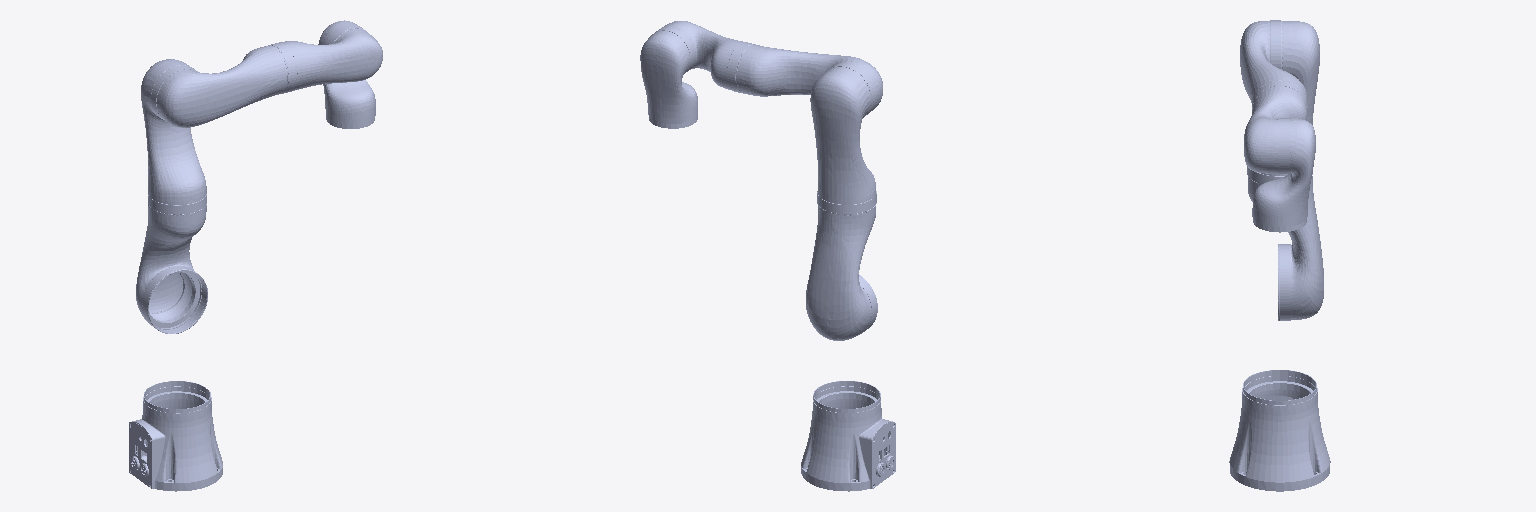
URDF robot description (tl_tcb610):
<?xml version="1.0" encoding="utf-8"?>
<!-- This URDF was automatically created by SolidWorks to URDF Exporter! Originally created by Stephen Brawner (brawner@gmail.com) 
     Commit Version: 1.6.0-4-g7f85cfe  Build Version: 1.6.7995.38578
     For more information, please see http://wiki.ros.org/sw_urdf_exporter -->
<robot
  name="tl_tcb610">
  <link
    name="link0">
    <inertial>
      <origin
        xyz="-0.0020391678669849 0.000208461233542918 0.0437970464318419"
        rpy="0 0 0" />
      <mass
        value="0.230943297728628" />
      <inertia
        ixx="0.000578857931988568"
        ixy="2.4964429515846E-06"
        ixz="-3.62761994221812E-06"
        iyy="0.000597326060992728"
        iyz="8.87603974516217E-07"
        izz="0.000630268815467388" />
    </inertial>
    <visual>
      <origin
        xyz="0 0 0"
        rpy="0 0 0" />
      <geometry>
        <mesh
          filename="package://tl_description/meshes/tl_tcb610/link0.STL" />
      </geometry>
      <material
        name="">
        <color
          rgba="0.792156862745098 0.819607843137255 0.933333333333333 1" />
      </material>
    </visual>
    <collision>
      <origin
        xyz="0 0 0"
        rpy="0 0 0" />
      <geometry>
        <mesh
          filename="package://tl_description/meshes/tl_tcb610/link0.STL" />
      </geometry>
    </collision>
  </link>
  <link
    name="link1">
    <inertial>
      <origin
        xyz="-2.8259283596747E-06 -0.0149440554612562 0.0760738628611228"
        rpy="0 0 0" />
      <mass
        value="0.188795049535535" />
      <inertia
        ixx="0.000644330974536614"
        ixy="5.55804168466963E-08"
        ixz="-5.40921744937873E-08"
        iyy="0.000669839544820847"
        iyz="0.000101917330586459"
        izz="0.000292784373513458" />
    </inertial>
    <visual>
      <origin
        xyz="0 0 0"
        rpy="0 0 0" />
      <geometry>
        <mesh
          filename="package://tl_description/meshes/tl_tcb610/link1.STL" />
      </geometry>
      <material
        name="">
        <color
          rgba="0.792156862745098 0.819607843137255 0.933333333333333 1" />
      </material>
    </visual>
    <collision>
      <origin
        xyz="0 0 0"
        rpy="0 0 0" />
      <geometry>
        <mesh
          filename="package://tl_description/meshes/tl_tcb610/link1.STL" />
      </geometry>
    </collision>
  </link>
  <joint
    name="joint1"
    type="revolute">
    <origin
      xyz="0 0 0.12215"
      rpy="0 0 0" />
    <parent
      link="link0" />
    <child
      link="link1" />
    <axis
      xyz="0 0 1" />
    <limit
      lower="-3.1416"
      upper="3.1416"
      effort="0"
      velocity="0" />
  </joint>
  <link
    name="link2">
    <inertial>
      <origin
        xyz="-3.41557976948607E-06 -0.154403021433948 0.0117350233964887"
        rpy="0 0 0" />
      <mass
        value="0.336430035256786" />
      <inertia
        ixx="0.00409550966536826"
        ixy="2.27297893015086E-07"
        ixz="-4.07589463639515E-08"
        iyy="0.000379304151063669"
        iyz="-6.4612439746862E-05"
        izz="0.00414165289962892" />
    </inertial>
    <visual>
      <origin
        xyz="0 0 0"
        rpy="0 0 0" />
      <geometry>
        <mesh
          filename="package://tl_description/meshes/tl_tcb610/link2.STL" />
      </geometry>
      <material
        name="">
        <color
          rgba="0.792156862745098 0.819607843137255 0.933333333333333 1" />
      </material>
    </visual>
    <collision>
      <origin
        xyz="0 0 0"
        rpy="0 0 0" />
      <geometry>
        <mesh
          filename="package://tl_description/meshes/tl_tcb610/link2.STL" />
      </geometry>
    </collision>
  </link>
  <joint
    name="joint2"
    type="revolute">
    <origin
      xyz="0 0.00665 0.14085"
      rpy="-1.5708 0 0" />
    <parent
      link="link1" />
    <child
      link="link2" />
    <axis
      xyz="0 0 -1" />
    <limit
      lower="-2.3737"
      upper="2.3737"
      effort="0"
      velocity="0" />
  </joint>
  <link
    name="link3">
    <inertial>
      <origin
        xyz="2.74481746994064E-06 0.065499648512279 0.0144299040479778"
        rpy="0 0 0" />
      <mass
        value="0.145368246128048" />
      <inertia
        ixx="0.000526467481082564"
        ixy="2.65464402133674E-08"
        ixz="8.84179853188939E-09"
        iyy="0.000131598077920685"
        iyz="7.17192965076357E-05"
        izz="0.000544513478137754" />
    </inertial>
    <visual>
      <origin
        xyz="0 0 0"
        rpy="0 0 0" />
      <geometry>
        <mesh
          filename="package://tl_description/meshes/tl_tcb610/link3.STL" />
      </geometry>
      <material
        name="">
        <color
          rgba="0.792156862745098 0.819607843137255 0.933333333333333 1" />
      </material>
    </visual>
    <collision>
      <origin
        xyz="0 0 0"
        rpy="0 0 0" />
      <geometry>
        <mesh
          filename="package://tl_description/meshes/tl_tcb610/link3.STL" />
      </geometry>
    </collision>
  </link>
  <joint
    name="joint3"
    type="revolute">
    <origin
      xyz="0 -0.3205 -0.0118"
      rpy="3.1416 0 1.5708" />
    <parent
      link="link2" />
    <child
      link="link3" />
    <axis
      xyz="0 0 1" />
    <limit
      lower="-0.9935"
      upper="4.1423"
      effort="0"
      velocity="0" />
  </joint>
  <link
    name="link4">
    <inertial>
      <origin
        xyz="5.09035849398104E-06 -0.0131445029955622 0.0626745222356143"
        rpy="0 0 0" />
      <mass
        value="0.0899815381638705" />
      <inertia
        ixx="0.000204808170770652"
        ixy="1.15810515435477E-08"
        ixz="-4.0698804813627E-08"
        iyy="0.000207969515429875"
        iyz="3.60476542196075E-05"
        izz="7.75188399631723E-05" />
    </inertial>
    <visual>
      <origin
        xyz="0 0 0"
        rpy="0 0 0" />
      <geometry>
        <mesh
          filename="package://tl_description/meshes/tl_tcb610/link4.STL" />
      </geometry>
      <material
        name="">
        <color
          rgba="0.792156862745098 0.819607843137255 0.933333333333333 1" />
      </material>
    </visual>
    <collision>
      <origin
        xyz="0 0 0"
        rpy="0 0 0" />
      <geometry>
        <mesh
          filename="package://tl_description/meshes/tl_tcb610/link4.STL" />
      </geometry>
    </collision>
  </link>
  <joint
    name="joint4"
    type="revolute">
    <origin
      xyz="0 0.16615 -0.00515"
      rpy="-1.5708 0 0" />
    <parent
      link="link3" />
    <child
      link="link4" />
    <axis
      xyz="0 0 1" />
    <limit
      lower="-3.1416"
      upper="3.1416"
      effort="0"
      velocity="0" />
  </joint>
  <link
    name="link5">
    <inertial>
      <origin
        xyz="-1.29749982976207E-05 -0.0398707312600616 0.00873816110028223"
        rpy="0 0 0" />
      <mass
        value="0.0915266768417461" />
      <inertia
        ixx="0.000167005961446374"
        ixy="3.62631341230194E-08"
        ixz="1.27355290243352E-08"
        iyy="8.07130413912459E-05"
        iyz="-3.15887030571337E-05"
        izz="0.000170834721676769" />
    </inertial>
    <visual>
      <origin
        xyz="0 0 0"
        rpy="0 0 0" />
      <geometry>
        <mesh
          filename="package://tl_description/meshes/tl_tcb610/link5.STL" />
      </geometry>
      <material
        name="">
        <color
          rgba="0.792156862745098 0.819607843137255 0.933333333333333 1" />
      </material>
    </visual>
    <collision>
      <origin
        xyz="0 0 0"
        rpy="0 0 0" />
      <geometry>
        <mesh
          filename="package://tl_description/meshes/tl_tcb610/link5.STL" />
      </geometry>
    </collision>
  </link>
  <joint
    name="joint5"
    type="revolute">
    <origin
      xyz="0 0.00615 0.11335"
      rpy="-1.5708 1.5708 0" />
    <parent
      link="link4" />
    <child
      link="link5" />
    <axis
      xyz="0 0 1" />
    <limit
      lower="-3.8386"
      upper="0.6970"
      effort="0"
      velocity="0" />
  </joint>
  <link
    name="link6">
    <inertial>
      <origin
        xyz="-0.000399244210043394 -8.96781331540938E-05 0.0324677284599193"
        rpy="0 0 0" />
      <mass
        value="0.0756964619305608" />
      <inertia
        ixx="5.73362607159586E-05"
        ixy="-4.71066536653812E-09"
        ixz="3.25485729113061E-07"
        iyy="5.76036490584805E-05"
        iyz="1.43757810045802E-08"
        izz="7.09151369147825E-05" />
    </inertial>
    <visual>
      <origin
        xyz="0 0 0"
        rpy="0 0 0" />
      <geometry>
        <mesh
          filename="package://tl_description/meshes/tl_tcb610/link6.STL" />
      </geometry>
      <material
        name="">
        <color
          rgba="0.792156862745098 0.819607843137255 0.933333333333333 1" />
      </material>
    </visual>
    <collision>
      <origin
        xyz="0 0 0"
        rpy="0 0 0" />
      <geometry>
        <mesh
          filename="package://tl_description/meshes/tl_tcb610/link6.STL" />
      </geometry>
    </collision>
  </link>
  <joint
    name="joint6"
    type="revolute">
    <origin
      xyz="0 -0.10615 -0.00615"
      rpy="1.5708 0 0" />
    <parent
      link="link5" />
    <child
      link="link6" />
    <axis
      xyz="0 0 1" />
    <limit
      lower="-3.1416"
      upper="3.1416"
      effort="0"
      velocity="0" />
  </joint>
</robot>

--- Render facts (derived) ---
The picture shows the robot from 3 angles, left to right: view 1: azimuth 30°, elevation 25°; view 2: azimuth 150°, elevation 25°; view 3: azimuth 270°, elevation 25°; orthographic projection.
Model tl_tcb610 with 7 links and 6 joints (6 revolute), rooted at link0, posed all joints at 0.
Links seen in each view (by area): view 1: link2, link0, link3, link4, link5; view 2: link2, link0, link3, link5, link4; view 3: link0, link2, link5, link4, link3.
Link boxes in pixels (x1,y1,x2,y2): link2: [136, 59, 207, 333]; link0: [129, 381, 222, 491]; link3: [150, 45, 286, 127]; link4: [271, 28, 382, 93]; link5: [318, 20, 375, 128]; link2: [806, 67, 877, 340]; link0: [801, 381, 895, 491]; link3: [737, 44, 882, 117]; link5: [640, 26, 697, 128]; link4: [664, 21, 755, 93]; link0: [1229, 370, 1330, 491]; link2: [1247, 21, 1323, 320]; link5: [1252, 118, 1315, 232]; link4: [1244, 80, 1307, 173]; link3: [1240, 20, 1307, 102].
Size in the robot's own frame: 0.3779 by 0.128 by 0.6249 metres.
5 mesh visuals loaded from 7 distinct referenced files (5 binary STL); not drawn: 2 (reference not matched to a file when rendering).
